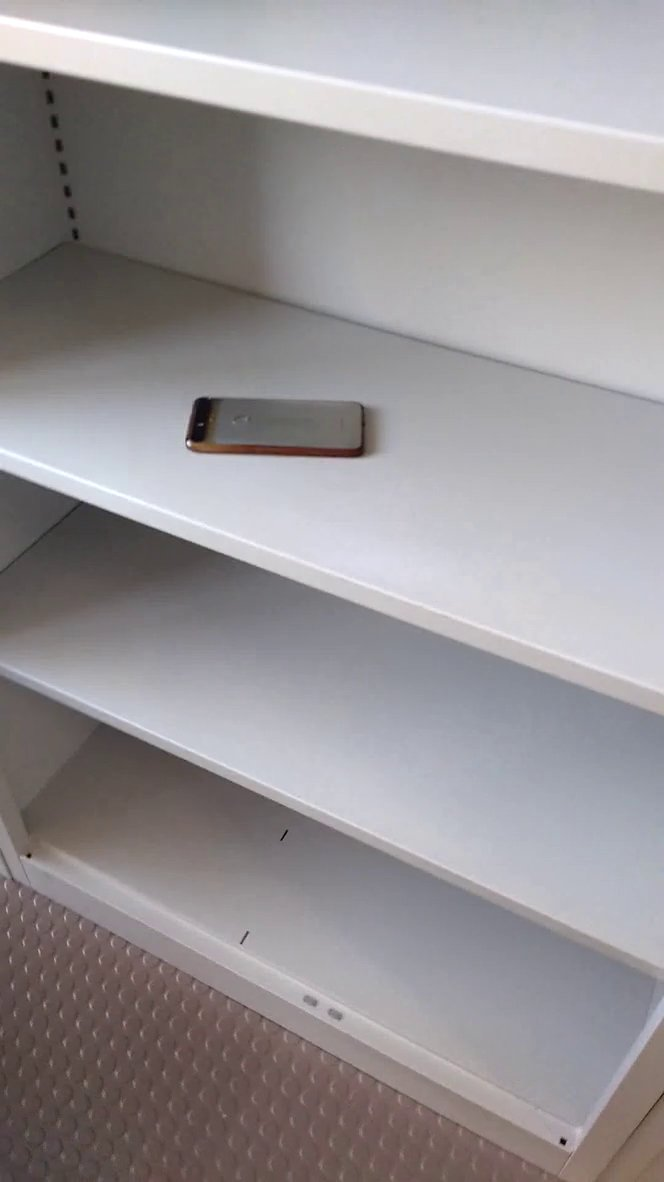phone: (175, 383, 379, 467)
